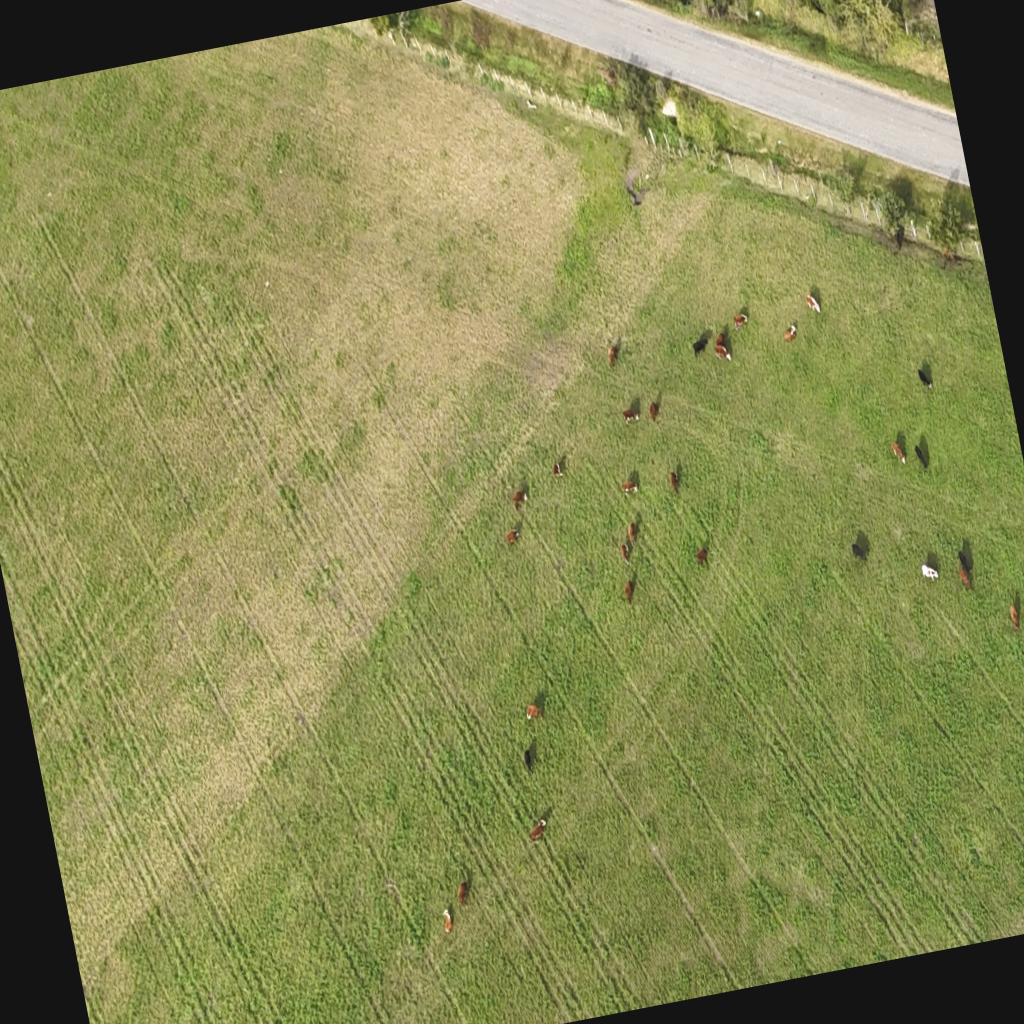cow: (620, 575, 640, 605), (520, 746, 538, 779), (439, 905, 457, 937), (528, 812, 550, 838), (920, 561, 940, 588), (510, 488, 532, 512), (620, 401, 642, 425), (916, 364, 934, 393), (956, 558, 972, 590), (454, 880, 472, 908), (890, 437, 908, 465), (618, 538, 634, 568), (690, 334, 710, 357), (914, 442, 929, 470), (605, 343, 621, 369), (620, 478, 640, 498), (714, 342, 732, 364), (732, 310, 750, 332), (804, 292, 822, 314), (1008, 602, 1022, 630), (851, 541, 867, 564), (626, 522, 640, 548), (647, 399, 662, 423), (504, 526, 522, 546), (524, 702, 542, 722), (694, 546, 710, 568), (550, 458, 564, 480), (668, 470, 680, 494), (782, 327, 796, 345), (942, 248, 956, 266), (714, 330, 726, 346)
